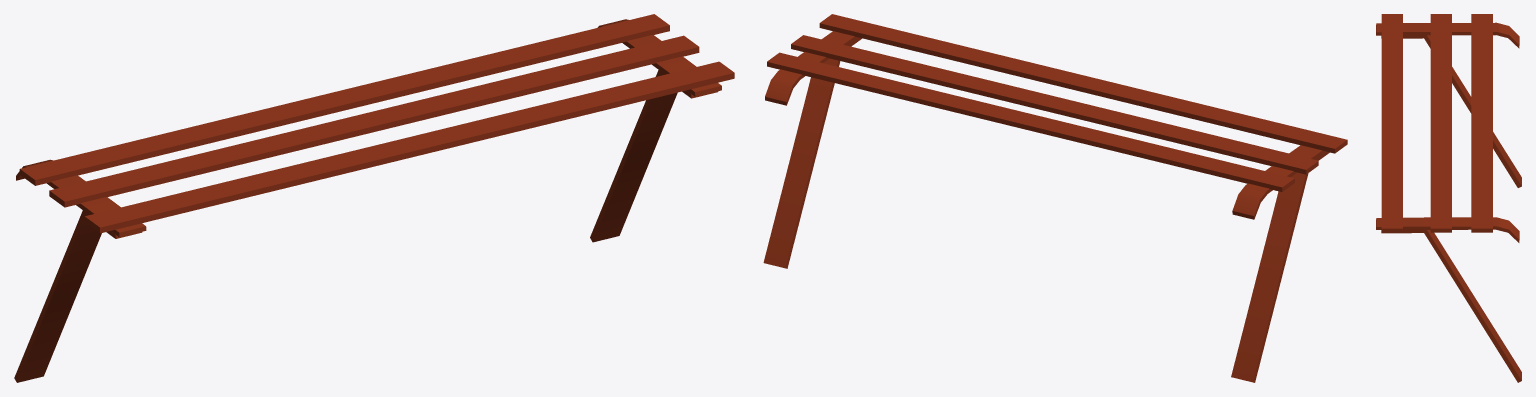
File: shelf.fbx
The picture shows the model from 3 angles, left to right: view 1: azimuth 30°, elevation 25°; view 2: azimuth 150°, elevation 25°; view 3: azimuth 270°, elevation 25°; orthographic projection. The views are drawn at different scales.
Parts seen in each view (by area): view 1: pCube81; view 2: pCube81; view 3: pCube81.
Part boxes in pixels (x1,y1,x2,y2): pCube81: [14, 14, 734, 382]; pCube81: [763, 14, 1347, 382]; pCube81: [1376, 14, 1521, 382].
Size of the model in its own units: 6.82 by 2.38 by 1.96.
